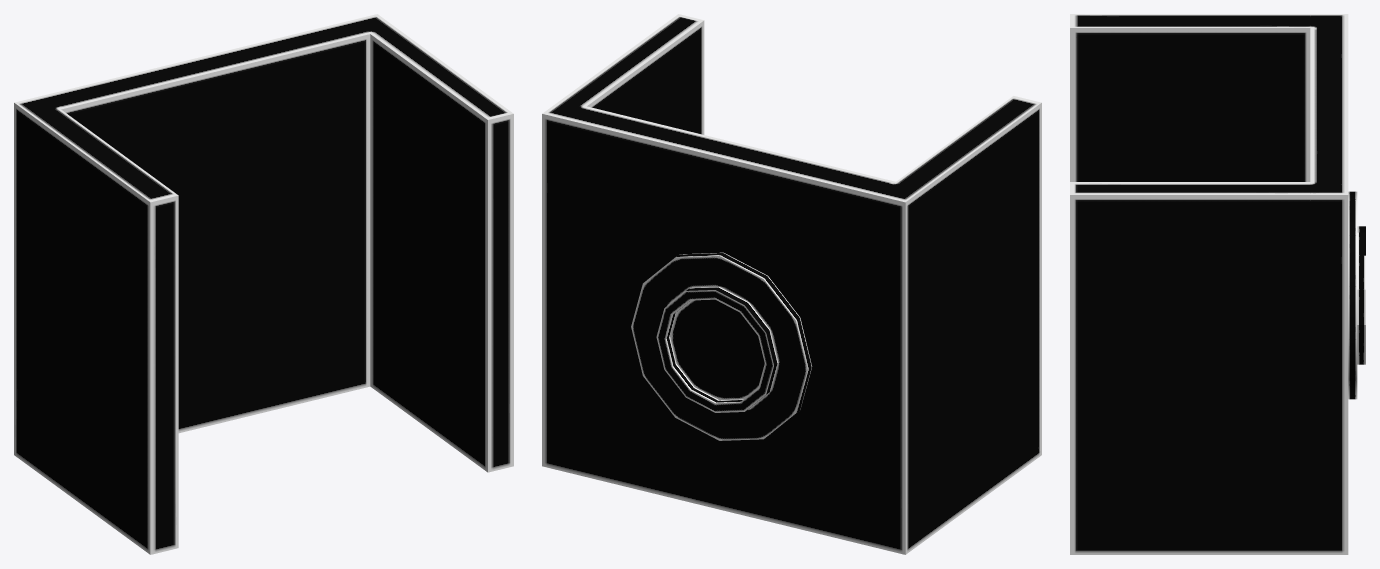
Rendered from SM_cubique.FBX.
3 renders of one model, left to right at view 1: azimuth 30°, elevation 25°; view 2: azimuth 150°, elevation 25°; view 3: azimuth 270°, elevation 25°, orthographic. The views are drawn at different scales.
Visible parts, largest first — view 1: Box002; view 2: Box002; view 3: Box002.
Part boxes in pixels (left/top/right/bottom): Box002: left=14, top=14, right=513, bottom=554; Box002: left=542, top=14, right=1041, bottom=554; Box002: left=1070, top=14, right=1365, bottom=554.
Size of the model in its own units: 713 by 661 by 492.
